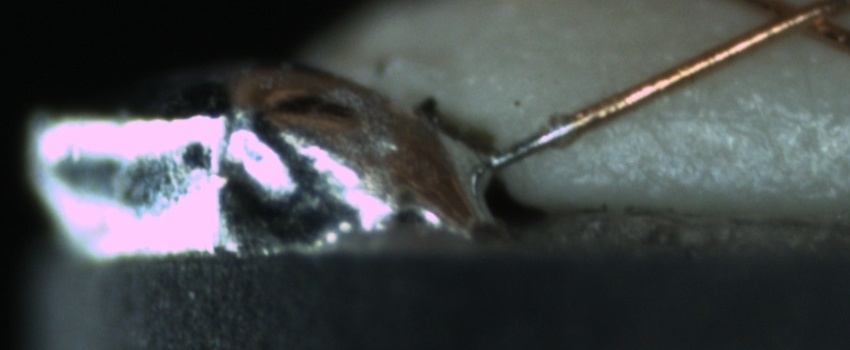CL: (738, 1, 848, 45)
DL: (628, 86, 850, 144)
TS: (489, 119, 574, 170)
TTCW: (490, 99, 612, 171)
